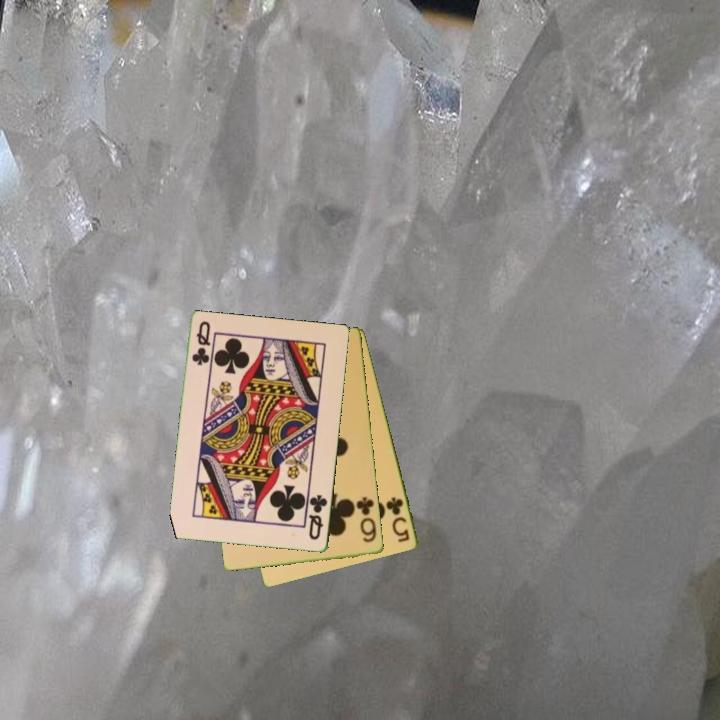5c: (383, 493, 413, 545)
6c: (353, 493, 380, 546)
Qc: (306, 491, 331, 543), (188, 318, 213, 368)
